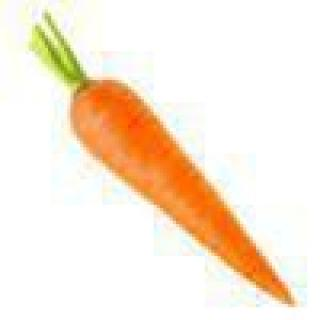Wortel: (1, 11, 305, 312)
